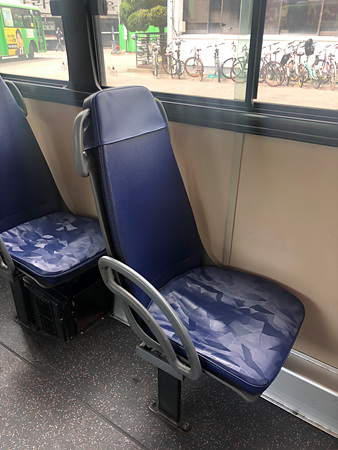seat: (88, 88, 308, 399)
